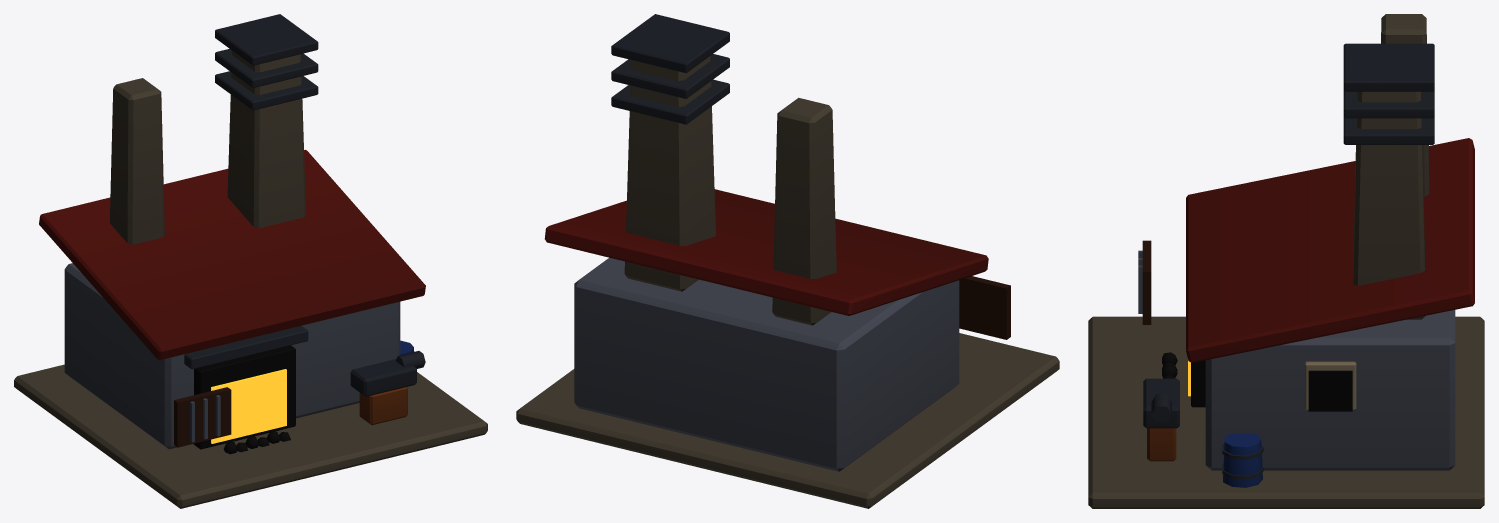
Rendered from b_forge.glb.
3 views of the same model, side by side, from view 1: azimuth 30°, elevation 25°; view 2: azimuth 150°, elevation 25°; view 3: azimuth 270°, elevation 25° (orthographic). The views are drawn at different scales.
Parts seen in each view (by area): view 1: forge_t1_body, forge_t3_body, forge_t2_body; view 2: forge_t1_body, forge_t3_body, forge_t2_body; view 3: forge_t1_body, forge_t3_body, forge_t2_body.
Part boxes in pixels (left/top/right/bottom): forge_t1_body: left=14, top=71, right=487, bottom=508; forge_t3_body: left=109, top=14, right=318, bottom=244; forge_t2_body: left=215, top=48, right=403, bottom=366; forge_t1_body: left=516, top=79, right=1059, bottom=508; forge_t3_body: left=611, top=14, right=836, bottom=325; forge_t2_body: left=611, top=54, right=729, bottom=98; forge_t1_body: left=1088, top=117, right=1484, bottom=508; forge_t3_body: left=1343, top=14, right=1434, bottom=319; forge_t2_body: left=1151, top=90, right=1434, bottom=475.
Bounding box in the file's own units: 2.9 × 2.95 × 2.7.
